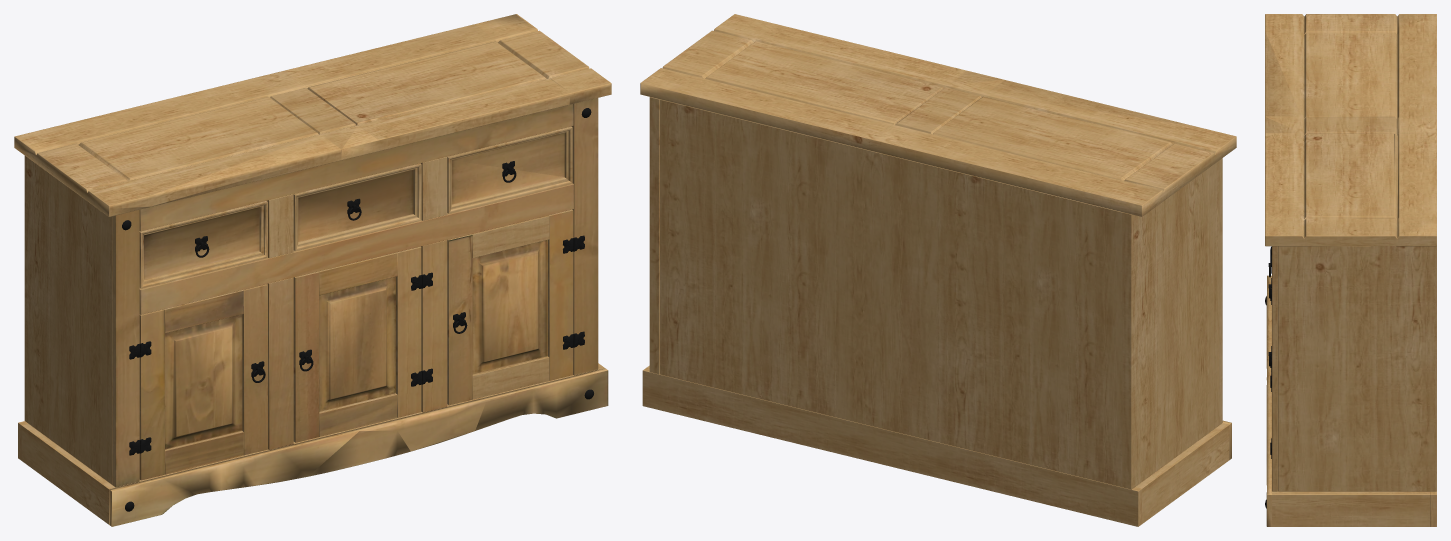
File: B007IHF36E.glb
The picture shows the model from 3 angles, left to right: view 1: azimuth 30°, elevation 25°; view 2: azimuth 150°, elevation 25°; view 3: azimuth 270°, elevation 25°; orthographic projection. The views are drawn at different scales.
Visible parts, largest first — view 1: B007IHF36E; view 2: B007IHF36E; view 3: B007IHF36E.
Boxes of the visible parts, <box> form: B007IHF36E: <box>14,14,611,526</box>; B007IHF36E: <box>640,14,1236,526</box>; B007IHF36E: <box>1265,14,1436,526</box>.
Bounding box in the file's own units: 1.32 × 0.8103 × 0.4318.
1 material, 1 textured.
